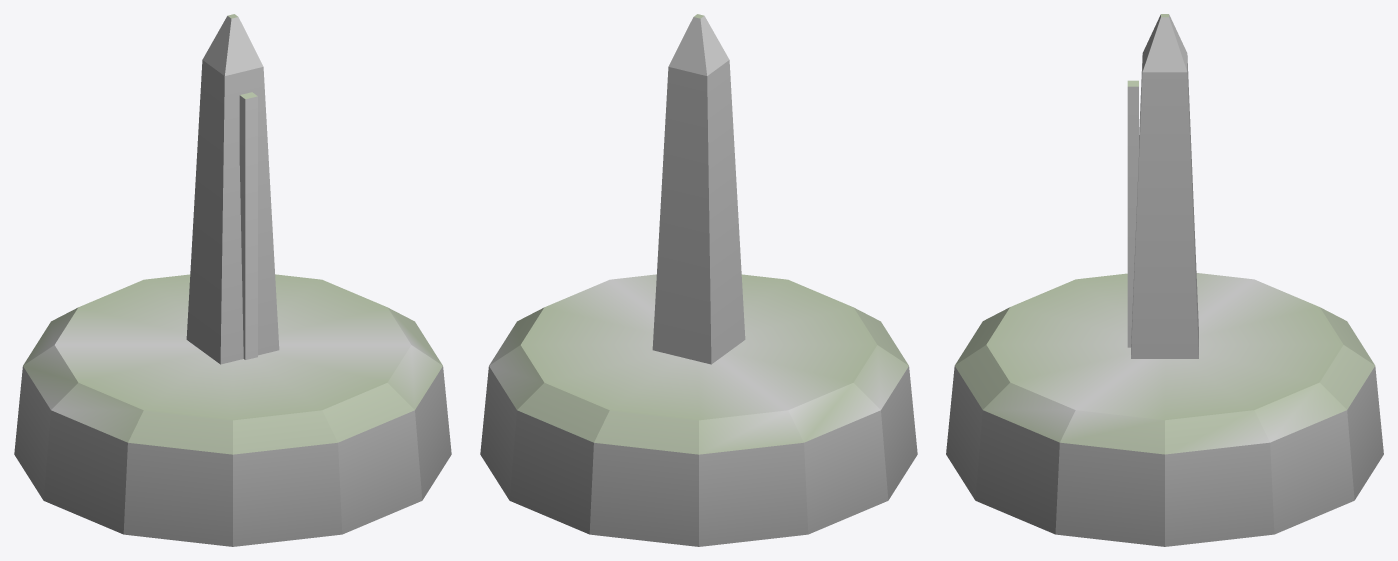
File: shrine_spring.glb
3 views of the same model, side by side, from view 1: azimuth 30°, elevation 25°; view 2: azimuth 150°, elevation 25°; view 3: azimuth 270°, elevation 25° (orthographic).
Visible parts, largest first — view 1: shrine_spring; view 2: shrine_spring; view 3: shrine_spring.
Boxes of the visible parts, left/top/right/bottom form: shrine_spring: left=14, top=14, right=451, bottom=546; shrine_spring: left=480, top=14, right=917, bottom=546; shrine_spring: left=946, top=14, right=1383, bottom=546.
Bounding box in the file's own units: 1.52 × 1.68 × 1.52.
